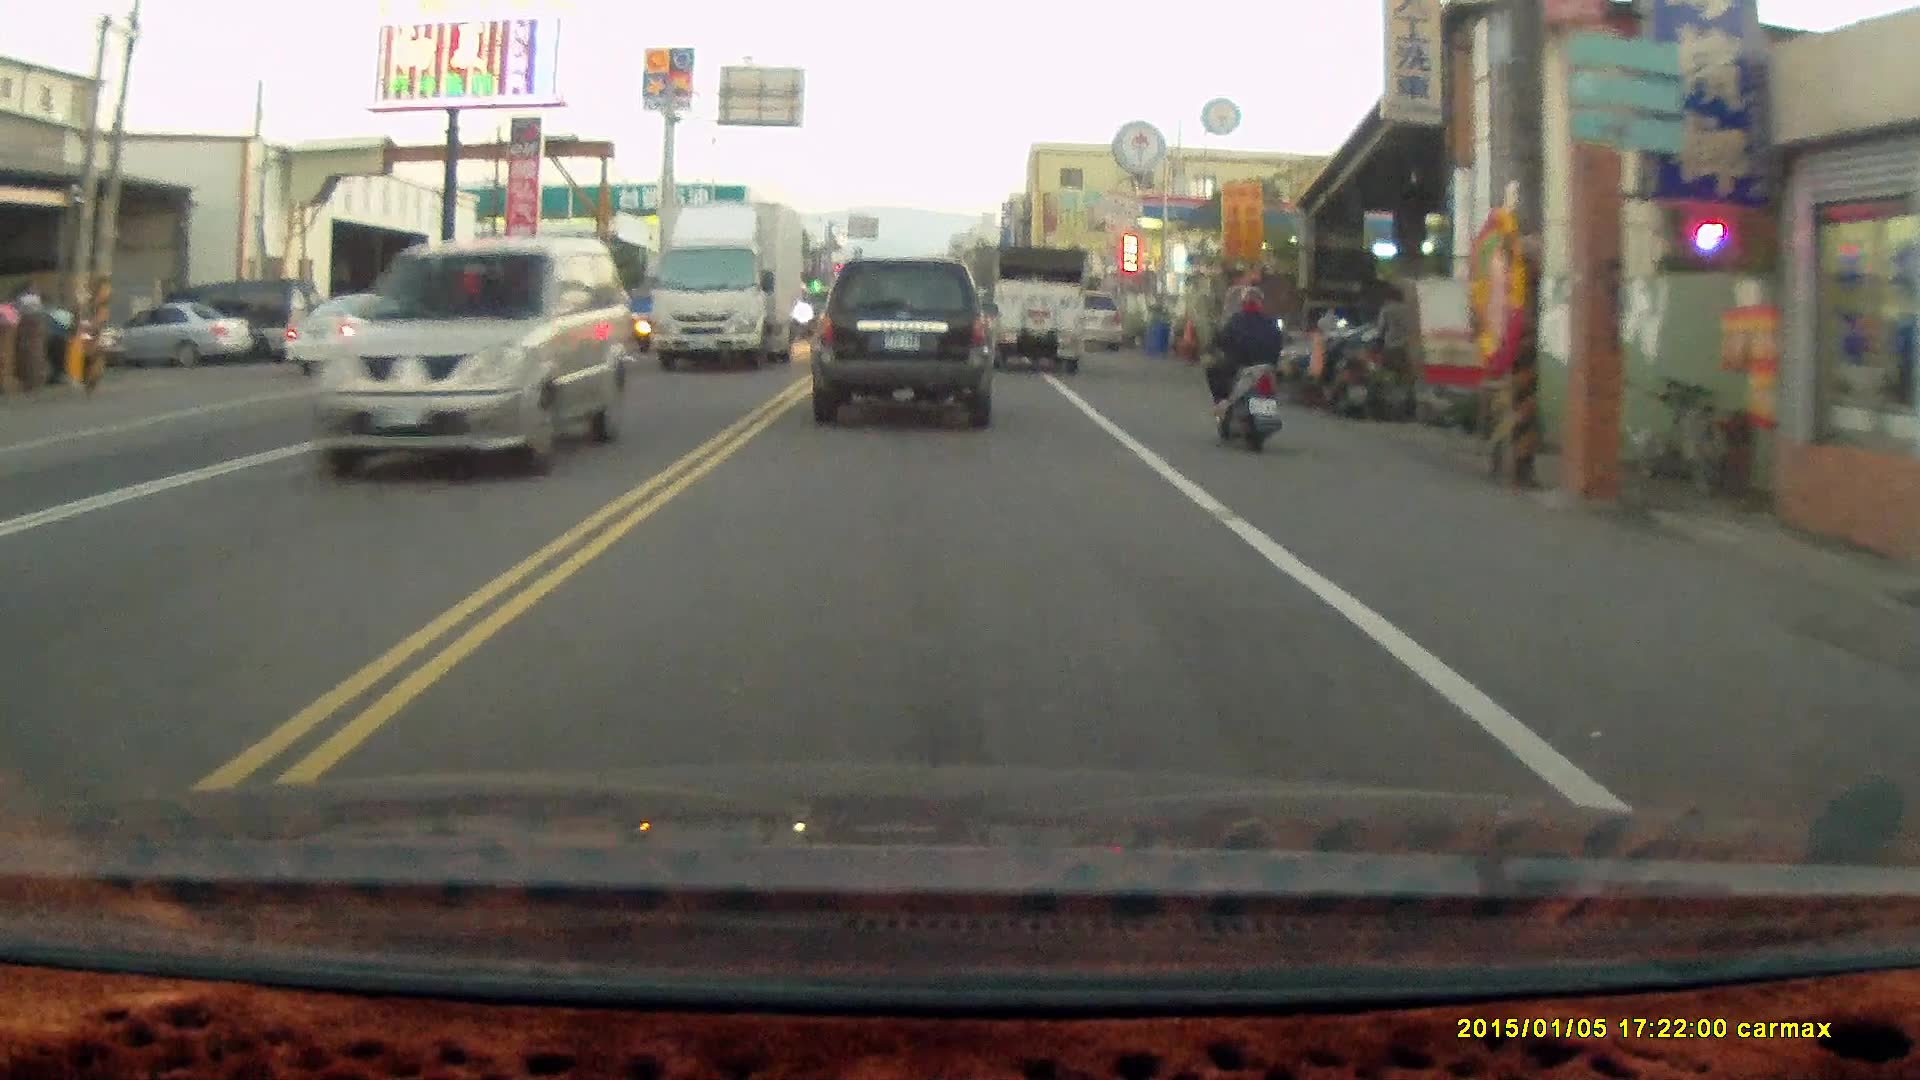pedestrian: (1374, 283, 1417, 403)
rider: (1196, 287, 1287, 456)
vehicle: (323, 237, 626, 477), (810, 255, 996, 431), (649, 200, 804, 372), (985, 243, 1086, 375), (127, 305, 263, 373)
